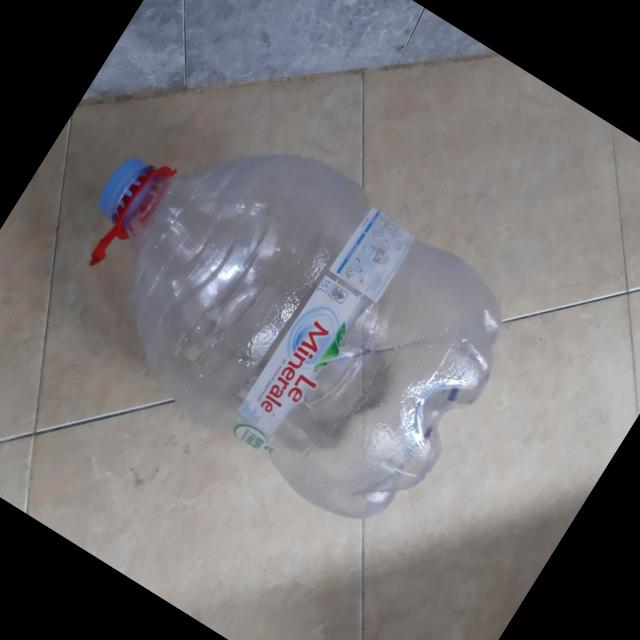Galon: (18, 67, 542, 550)
